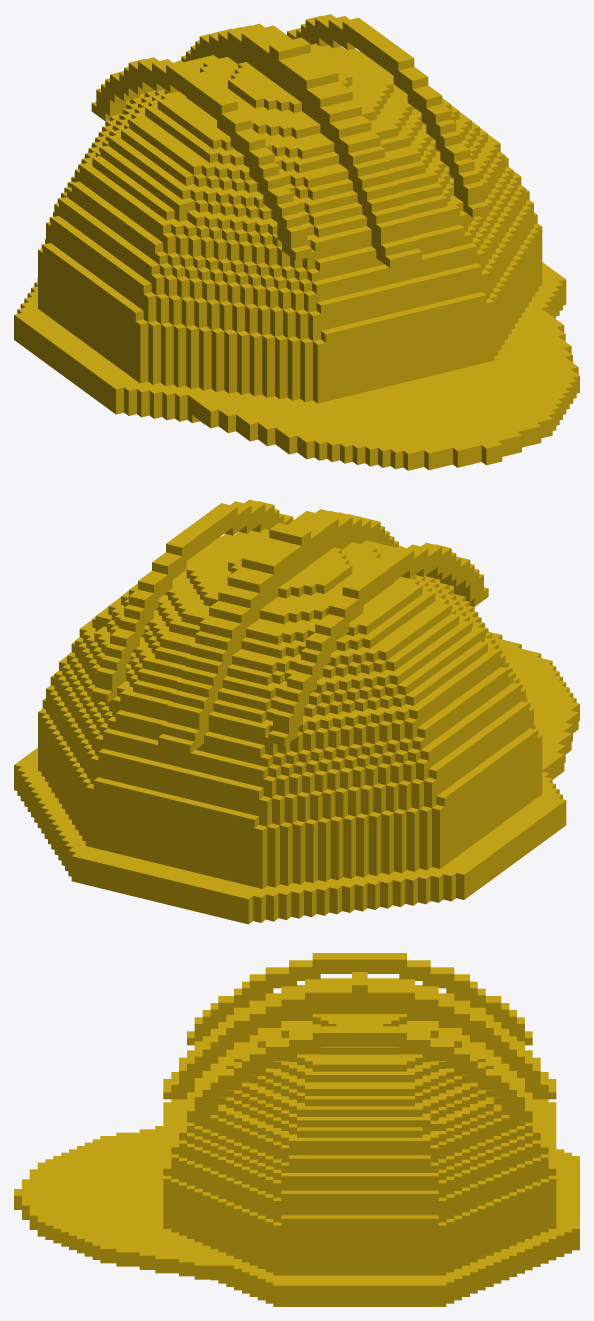
Rendered from hat_hard.glb.
3 views of the same model, one above another, from view 1: azimuth 30°, elevation 25°; view 2: azimuth 150°, elevation 25°; view 3: azimuth 270°, elevation 25° (orthographic). The views are drawn at different scales.
Visible parts, largest first — view 1: hat_hard:compound; view 2: hat_hard:compound; view 3: hat_hard:compound.
Part boxes in pixels (x1,y1,x2,y2): hat_hard:compound: (14,14,579,470); hat_hard:compound: (14,499,579,924); hat_hard:compound: (14,953,579,1306).
Size of the model in its own units: 0.224 by 0.132 by 0.288.
